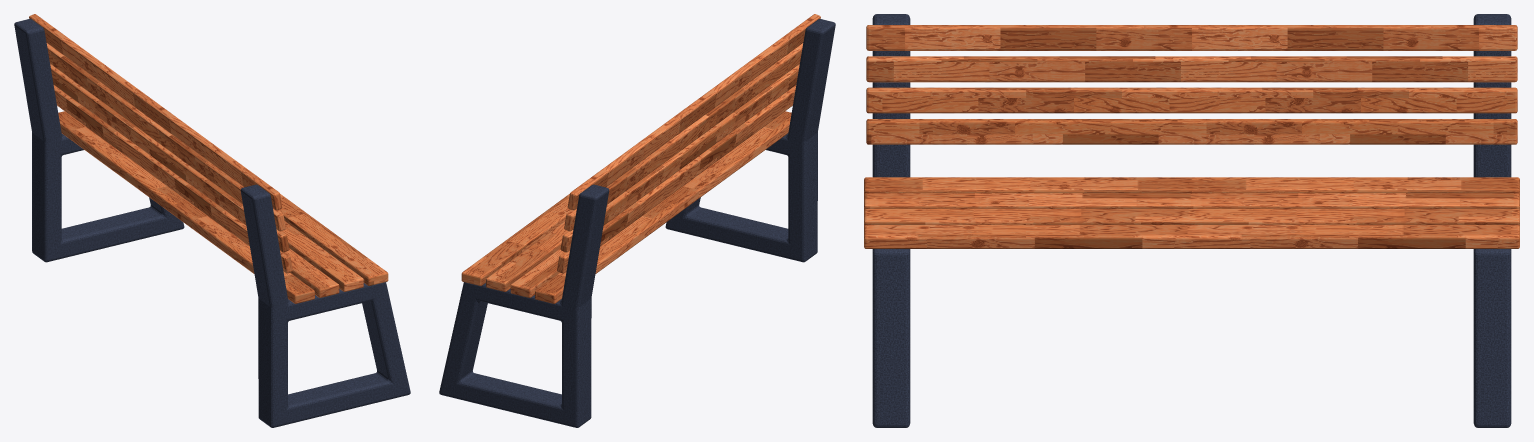
Rendered from bench.glb.
3 renders of one model, left to right at view 1: azimuth 30°, elevation 25°; view 2: azimuth 150°, elevation 25°; view 3: azimuth 270°, elevation 25°, orthographic. The views are drawn at different scales.
Parts seen in each view (by area): view 1: Cube, Cube.002, Cube.001; view 2: Cube, Cube.002, Cube.001; view 3: Cube.002, Cube.001, Cube.
Part boxes in pixels (x1=…): Cube: x1=14, y1=19, x2=410, y2=427; Cube.002: x1=29, y1=14, x2=292, y2=273; Cube.001: x1=58, y1=111, x2=388, y2=303; Cube: x1=439, y1=19, x2=835, y2=427; Cube.002: x1=557, y1=14, x2=820, y2=273; Cube.001: x1=461, y1=111, x2=791, y2=303; Cube.002: x1=866, y1=25, x2=1517, y2=144; Cube.001: x1=864, y1=177, x2=1519, y2=248; Cube: x1=872, y1=14, x2=1511, y2=427.
Size of the model in its own units: 0.5803 by 0.8306 by 1.57.
Materials: 2 (2 with a texture image).
